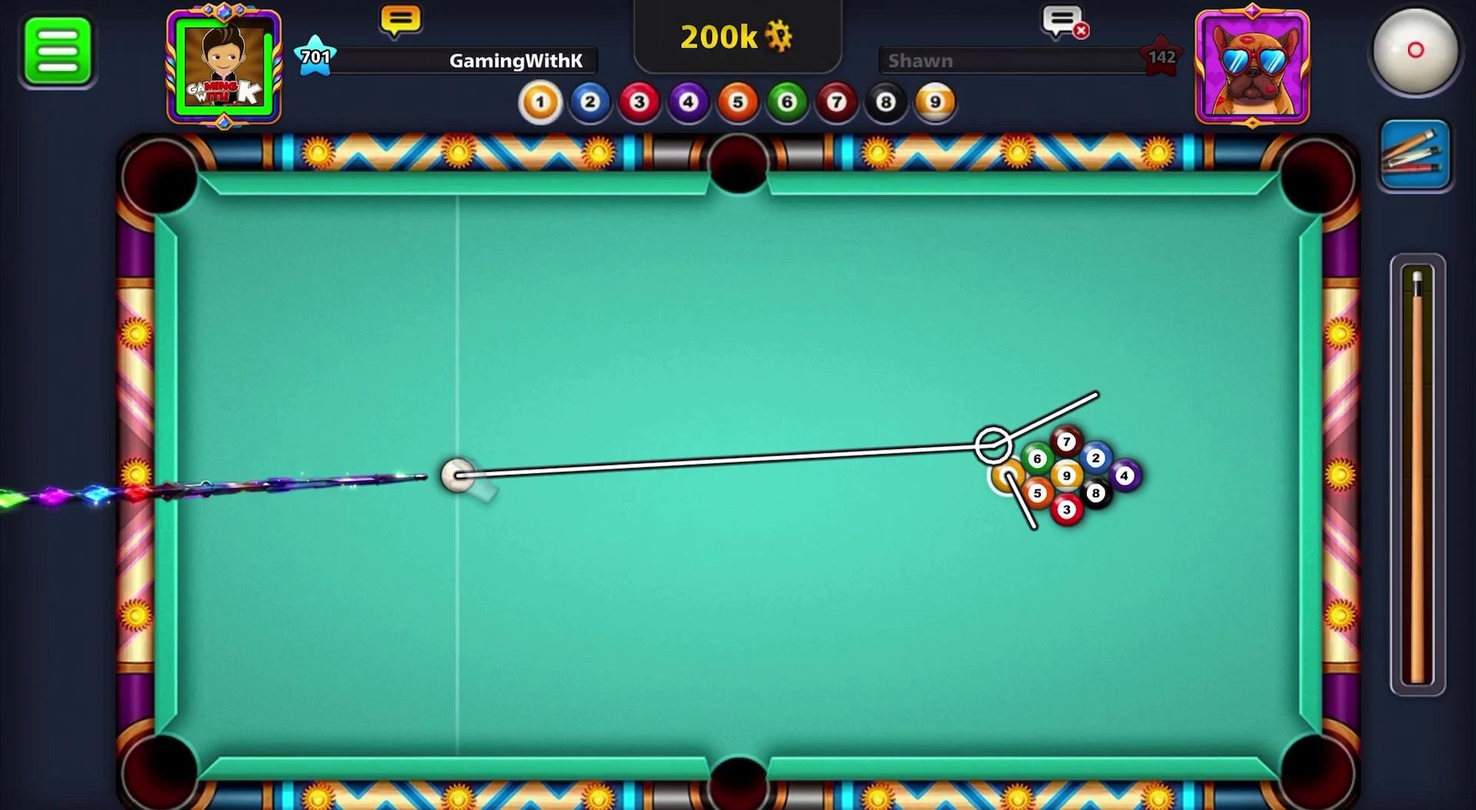Ball: (984, 457, 1028, 497), (1047, 421, 1088, 460), (1048, 491, 1089, 527), (1019, 473, 1055, 510), (1108, 456, 1144, 493), (1018, 439, 1054, 475), (1077, 475, 1112, 510), (1079, 441, 1115, 475), (1052, 460, 1080, 493)
Force: (1388, 254, 1452, 706)
Guideline: (451, 382, 1105, 535)
Hole: (107, 128, 212, 231), (1269, 131, 1365, 230), (1265, 716, 1364, 809), (111, 724, 208, 809), (685, 736, 785, 809), (700, 123, 778, 204)
Play_Area: (178, 193, 1300, 760)
Spin: (1345, 0, 1475, 112)
White: (428, 452, 481, 497)
